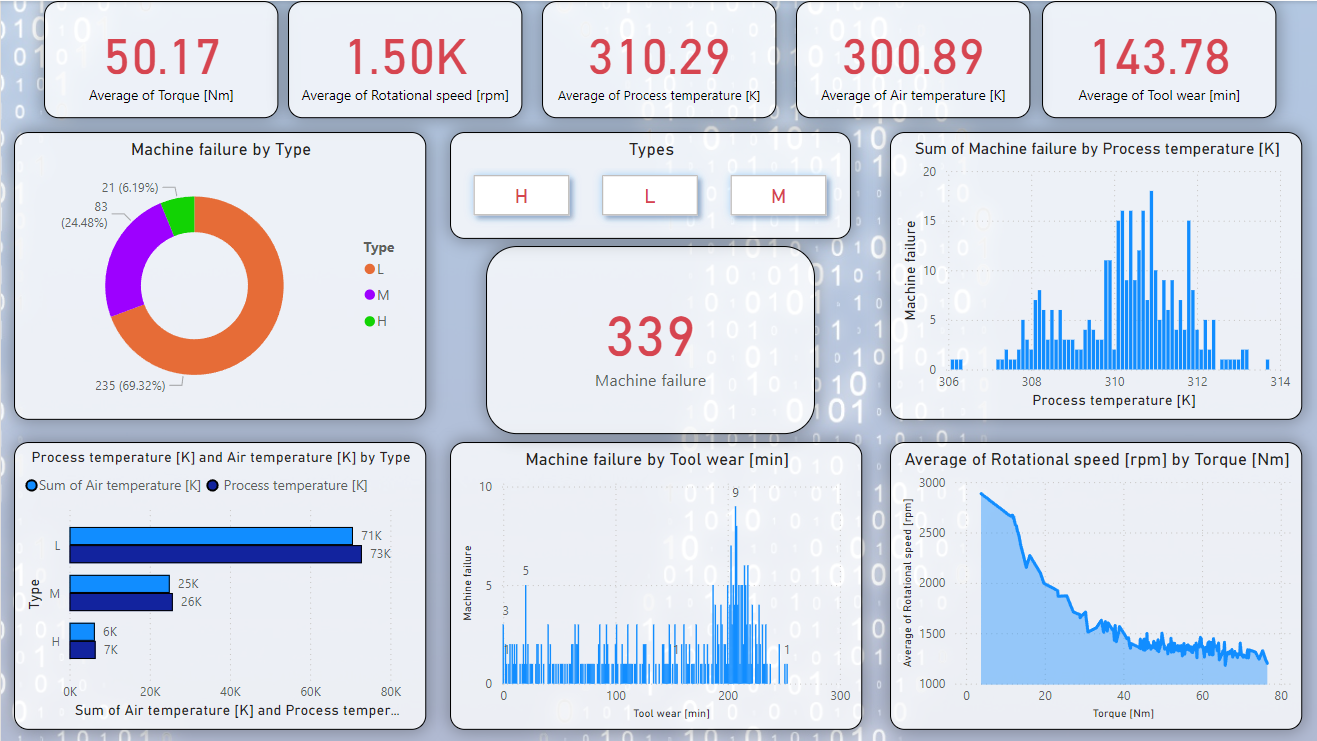

What the dashboard file says about the page in this screenshot:
{"tool":"powerbi","page":{"name":"Page 2","canvas":[1280,720],"ordinal":1},"visuals":[{"type":"donutChart","title":"Machine failure by Type","fields":{"Category":["historical_maintenance_data.Type"],"Y":["Sum(historical_maintenance_data.Machine failure)"]},"box":[13,127,401,280],"z":0},{"type":"clusteredBarChart","title":"Process temperature [K] and Air temperature [K] by Type","fields":{"Category":["historical_maintenance_data.Type"],"Y":["Sum(historical_maintenance_data.Air temperature [K])","Sum(historical_maintenance_data.Process temperature [K])"]},"box":[13,429,401,280],"z":1000},{"type":"clusteredColumnChart","title":"Machine failure by Tool wear [min]","fields":{"Category":["historical_maintenance_data.Tool wear [min]"],"Y":["Sum(historical_maintenance_data.Machine failure)"]},"box":[437,429,401,280],"z":2000},{"type":"card","title":"Machine failure by Tool wear [min]","fields":{"Values":["Sum(historical_maintenance_data.Machine failure)"]},"box":[472,238,320,183],"z":3000},{"type":"advancedSlicerVisual","title":"Types","fields":{"Values":["historical_maintenance_data.Type"]},"box":[437,127,390,104],"z":4000},{"type":"lineChart","title":"Average of Rotational speed [rpm] by Torque [Nm]","fields":{"Category":["historical_maintenance_data.Torque [Nm]"],"Y":["Avg(historical_maintenance_data.Rotational speed [rpm])"]},"box":[865,429,401,280],"z":5000},{"type":"columnChart","title":"Sum of Machine failure by Process temperature [K]","fields":{"Category":["historical_maintenance_data.Process temperature [K]"],"Y":["Sum(historical_maintenance_data.Machine failure)"]},"box":[865,127,401,280],"z":6000},{"type":"card","title":"Machine failure by Tool wear [min]","fields":{"Values":["Avg(historical_maintenance_data.Tool wear [min])"]},"box":[1013,0,228,114],"z":7000},{"type":"card","title":"Machine failure by Tool wear [min]","fields":{"Values":["Avg(historical_maintenance_data.Torque [Nm])"]},"box":[42,0,228,114],"z":8000},{"type":"card","title":"Machine failure by Tool wear [min]","fields":{"Values":["Avg(historical_maintenance_data.Rotational speed [rpm])"]},"box":[279,0,228,114],"z":9000},{"type":"card","title":"Machine failure by Tool wear [min]","fields":{"Values":["Avg(historical_maintenance_data.Process temperature [K])"]},"box":[526,0,228,114],"z":10000},{"type":"card","title":"Machine failure by Tool wear [min]","fields":{"Values":["Avg(historical_maintenance_data.Air temperature [K])"]},"box":[773,0,228,114],"z":11000}]}

Visuals, with their boxes in screenshot pixels (x1, y1, x2, y2), scaled from the page's 1280x720 canvas onto the 1317x741 screenshot:
"Machine failure by Type" donutChart: (13, 131, 426, 419)
"Process temperature [K] and Air temperature [K] by Type" clusteredBarChart: (13, 442, 426, 730)
"Machine failure by Tool wear [min]" clusteredColumnChart: (450, 442, 862, 730)
"Machine failure by Tool wear [min]" card: (486, 245, 815, 433)
"Types" advancedSlicerVisual: (450, 131, 851, 238)
"Average of Rotational speed [rpm] by Torque [Nm]" lineChart: (890, 442, 1303, 730)
"Sum of Machine failure by Process temperature [K]" columnChart: (890, 131, 1303, 419)
"Machine failure by Tool wear [min]" card: (1042, 0, 1277, 117)
"Machine failure by Tool wear [min]" card: (43, 0, 278, 117)
"Machine failure by Tool wear [min]" card: (287, 0, 522, 117)
"Machine failure by Tool wear [min]" card: (541, 0, 776, 117)
"Machine failure by Tool wear [min]" card: (795, 0, 1030, 117)
